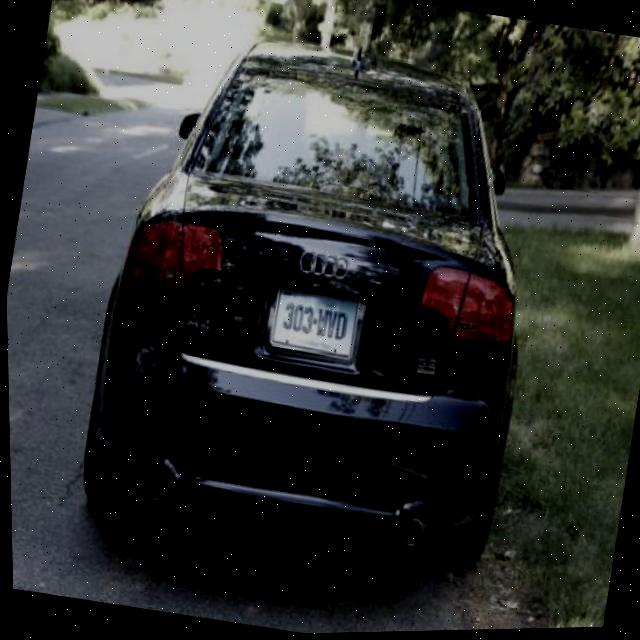license_plate: (265, 284, 360, 364)
